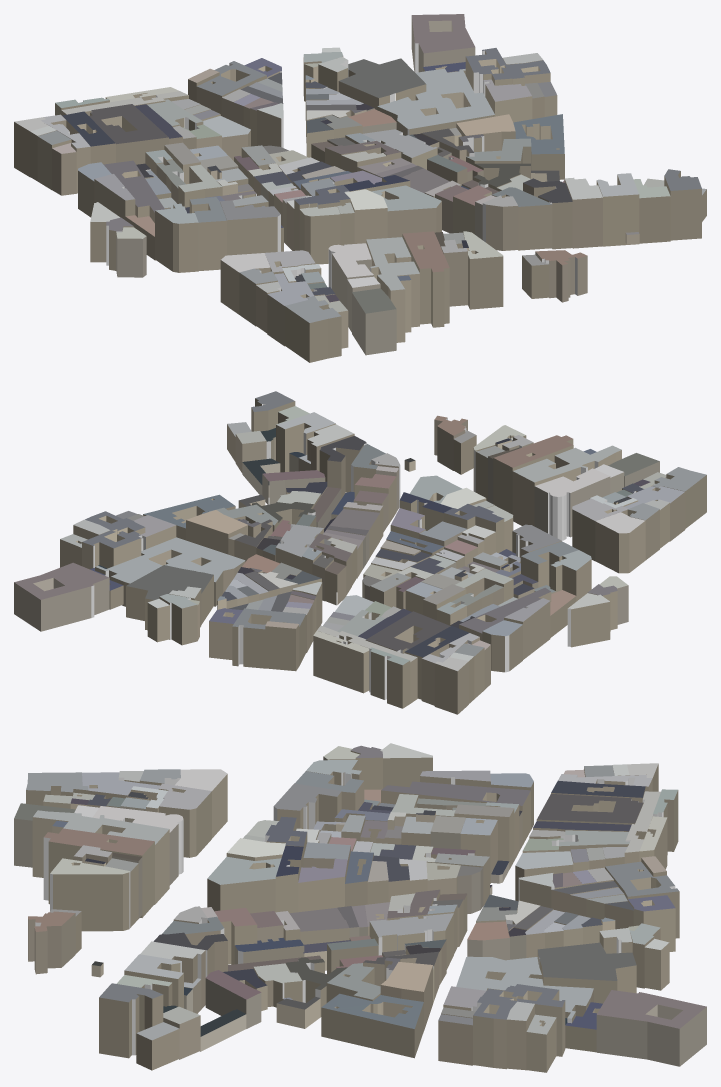
3 views of the same model, one above another, from view 1: azimuth 30°, elevation 25°; view 2: azimuth 150°, elevation 25°; view 3: azimuth 270°, elevation 25° (orthographic). The views are drawn at different scales.
Visible parts, largest first — view 1: tuile; view 2: tuile; view 3: tuile.
Boxes of the visible parts, left/top/right/bottom form: tuile: left=14, top=14, right=706, bottom=362; tuile: left=14, top=391, right=706, bottom=714; tuile: left=14, top=743, right=706, bottom=1072.
Size of the model in its own units: 267 by 29.61 by 277.
